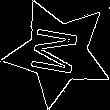M_E: (29, 25, 87, 80)
